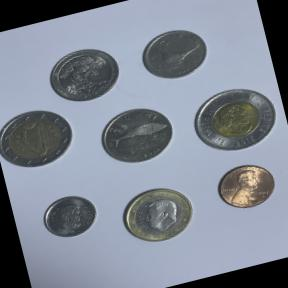coin: (182, 69, 288, 164), (90, 92, 188, 177), (112, 173, 206, 252), (0, 99, 83, 181), (42, 38, 128, 110), (207, 152, 284, 216), (34, 188, 104, 248)
